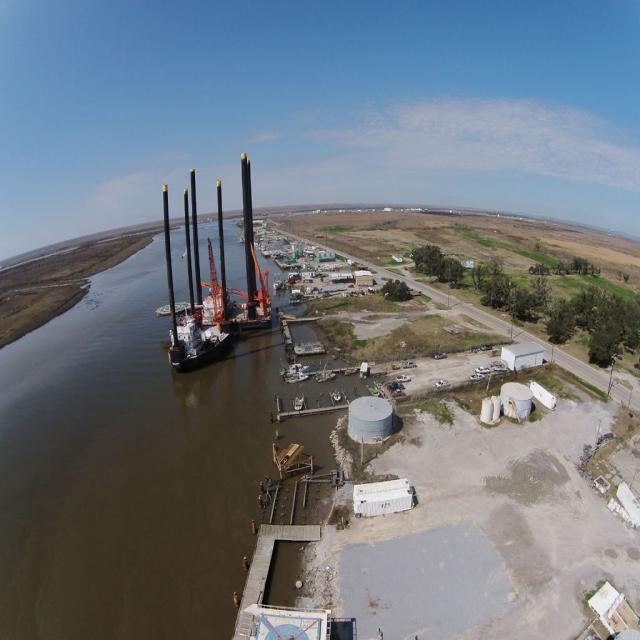Boat: (280, 357, 308, 374), (286, 372, 308, 384), (316, 372, 336, 382), (273, 273, 283, 291), (294, 395, 304, 410), (330, 389, 339, 402)
